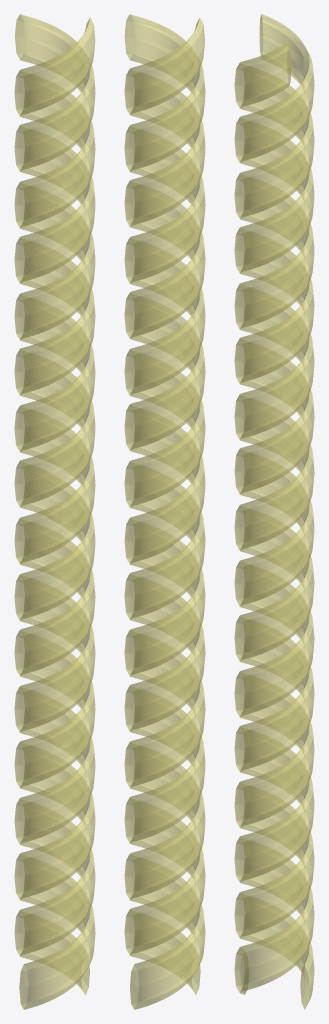
File: beam.fbx
The picture shows the model from 3 angles, left to right: view 1: azimuth 30°, elevation 25°; view 2: azimuth 210°, elevation 25°; view 3: azimuth 330°, elevation 25°; orthographic projection.
Visible parts, largest first — view 1: polySurface1; view 2: polySurface1; view 3: polySurface1.
Boxes of the visible parts, x1=… form: polySurface1: x1=14, y1=14, x2=95, y2=1009; polySurface1: x1=124, y1=14, x2=205, y2=1009; polySurface1: x1=234, y1=14, x2=314, y2=1009.
Size of the model in its own units: 0.4409 by 5.92 by 0.4409.
